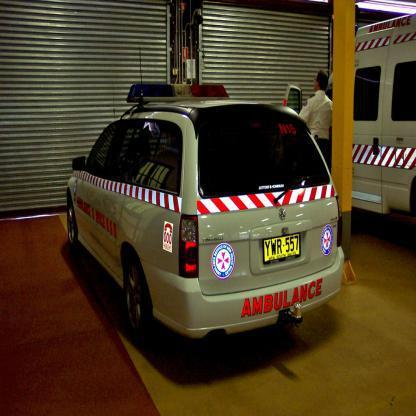Ambulance - v1 Ambulance last generate: (65, 49, 345, 342), (283, 12, 416, 216)
